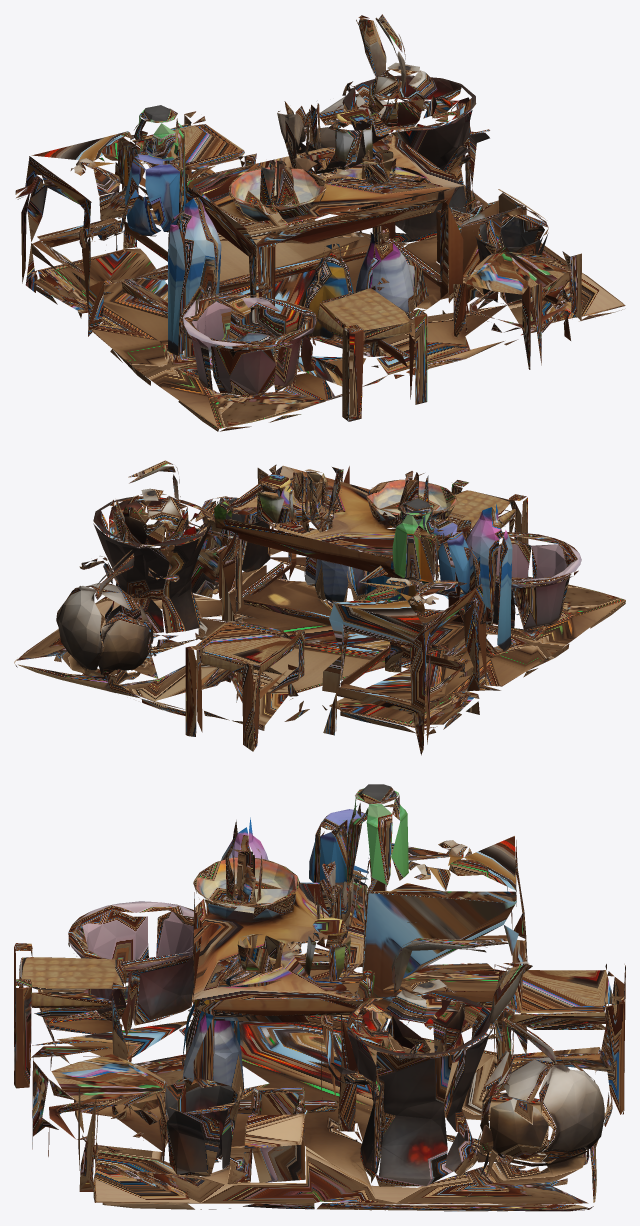
The model's file is tea_stall.glb.
3 renders of one model, top to bottom at view 1: azimuth 30°, elevation 25°; view 2: azimuth 150°, elevation 25°; view 3: azimuth 270°, elevation 25°, orthographic. The views are drawn at different scales.
Parts seen in each view (by area): view 1: world; view 2: world; view 3: world.
Boxes of the visible parts, x1,y1,x2,y2 form: world: (15, 14, 625, 431); world: (14, 460, 625, 755); world: (14, 784, 625, 1211).
Bounding box in the file's own units: 0.9617 × 0.4433 × 1.
1 material, 1 textured.
